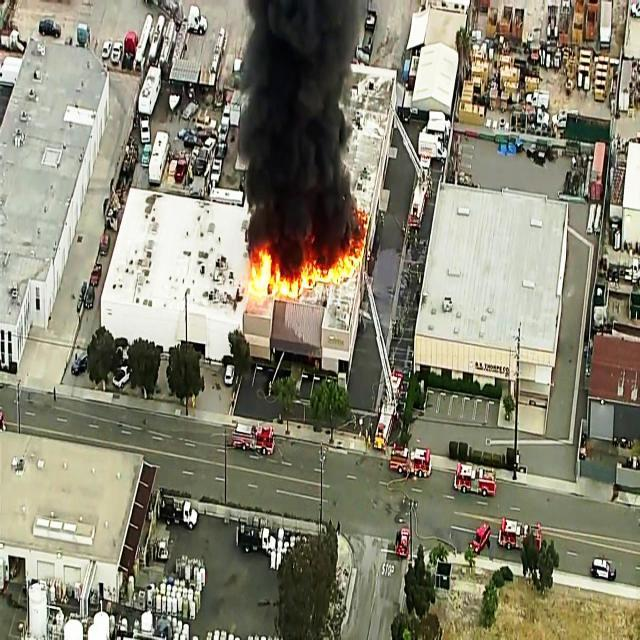Fire: (246, 236, 358, 304)
Smoke: (240, 0, 366, 246)
